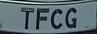C: (49, 6, 65, 32)
F: (35, 4, 50, 34)
G: (65, 5, 78, 32)
T: (19, 5, 36, 33)
